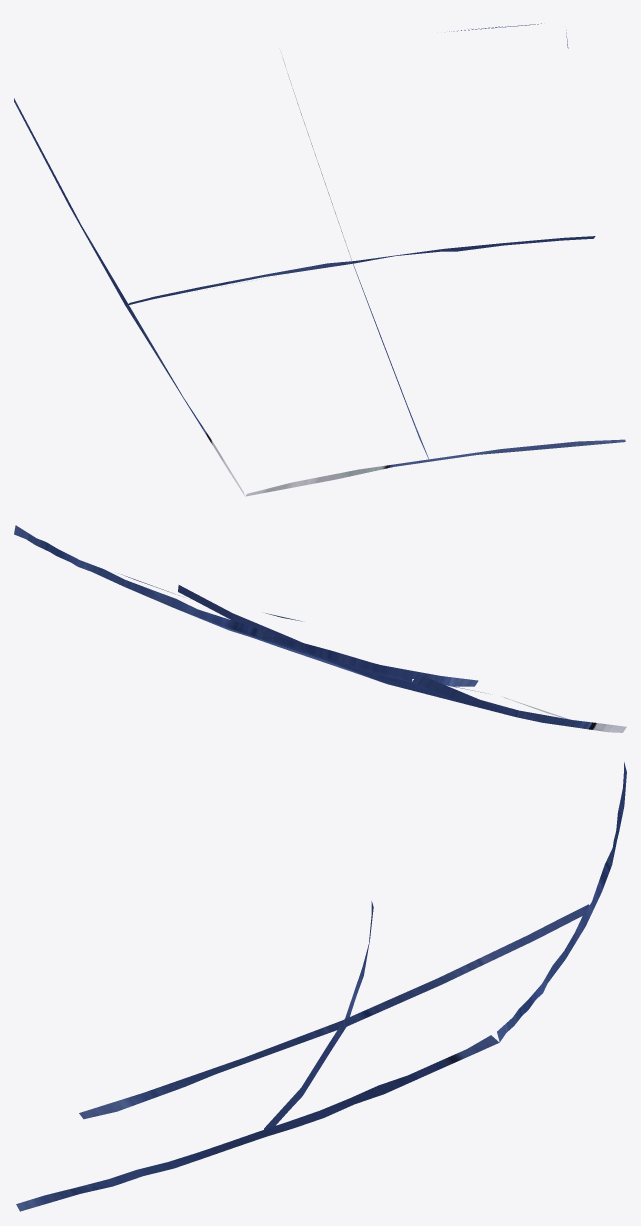
3 views of the same model, one above another, from view 1: azimuth 30°, elevation 25°; view 2: azimuth 150°, elevation 25°; view 3: azimuth 270°, elevation 25° (orthographic). The views are drawn at different scales.
Bounding box in the file's own units: 1375216 × 623495 × 1304992.
1 material, 1 textured.
